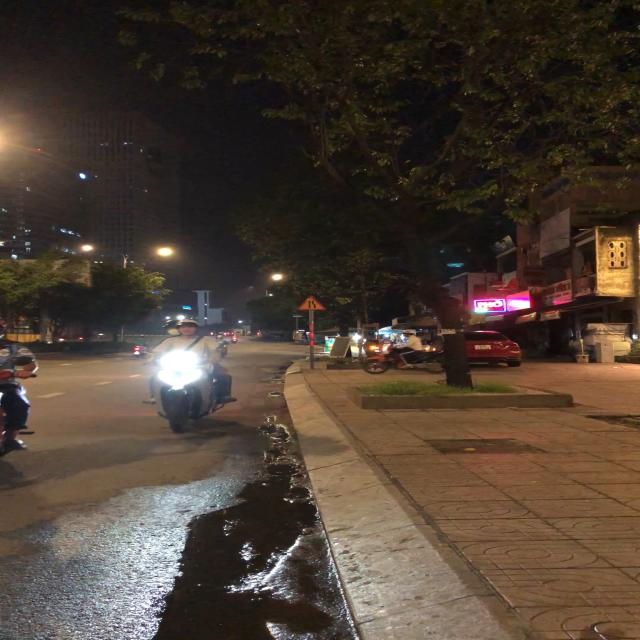Bien bao duong bi thu hep: (292, 293, 327, 313)
